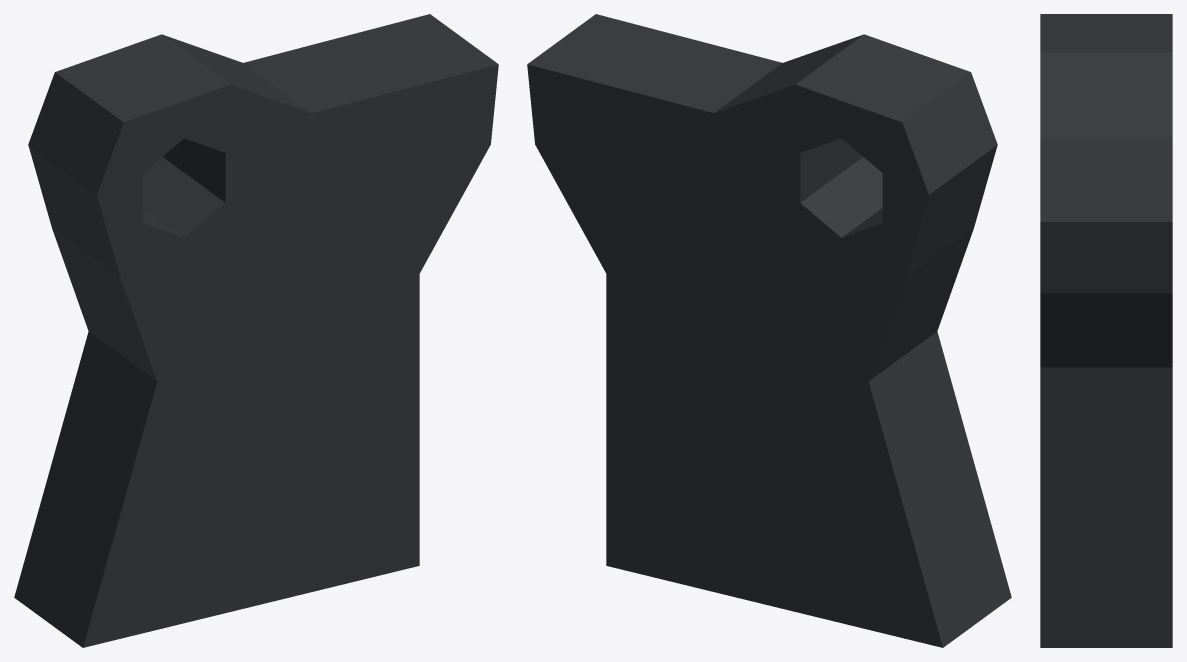
File: Pistol1_05_4.fbx
3 renders of one model, left to right at view 1: azimuth 30°, elevation 25°; view 2: azimuth 150°, elevation 25°; view 3: azimuth 270°, elevation 25°, orthographic. The views are drawn at different scales.
Visible parts, largest first — view 1: Pistol1_05_4; view 2: Pistol1_05_4; view 3: Pistol1_05_4.
Boxes of the visible parts, bbox=[...] form: Pistol1_05_4: bbox=[14, 14, 498, 647]; Pistol1_05_4: bbox=[527, 14, 1011, 647]; Pistol1_05_4: bbox=[1040, 14, 1172, 647].
Bounding box in the file's own units: 0.0272 × 0.033 × 0.0078.
